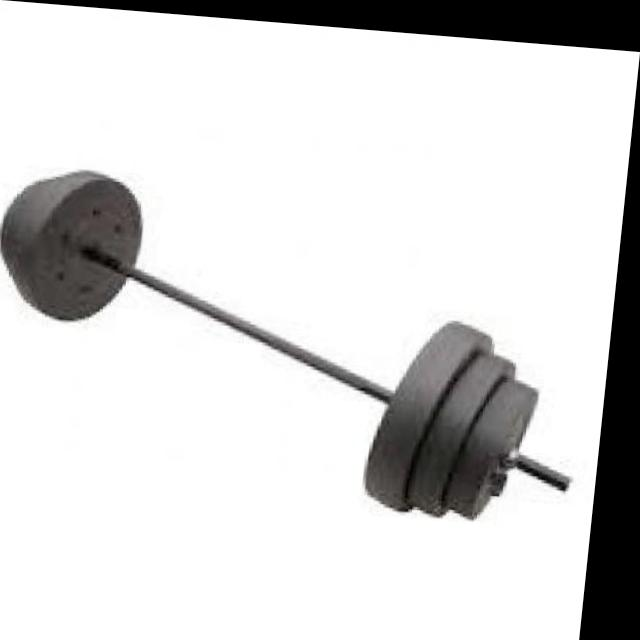barbell: (477, 370, 599, 528)
